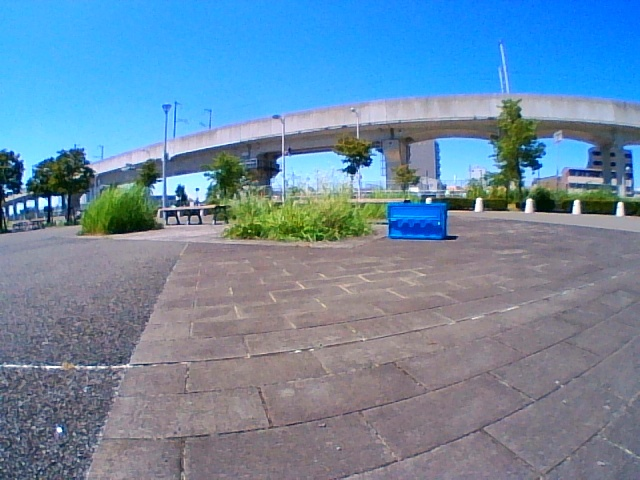blue_box: (388, 204, 446, 238)
